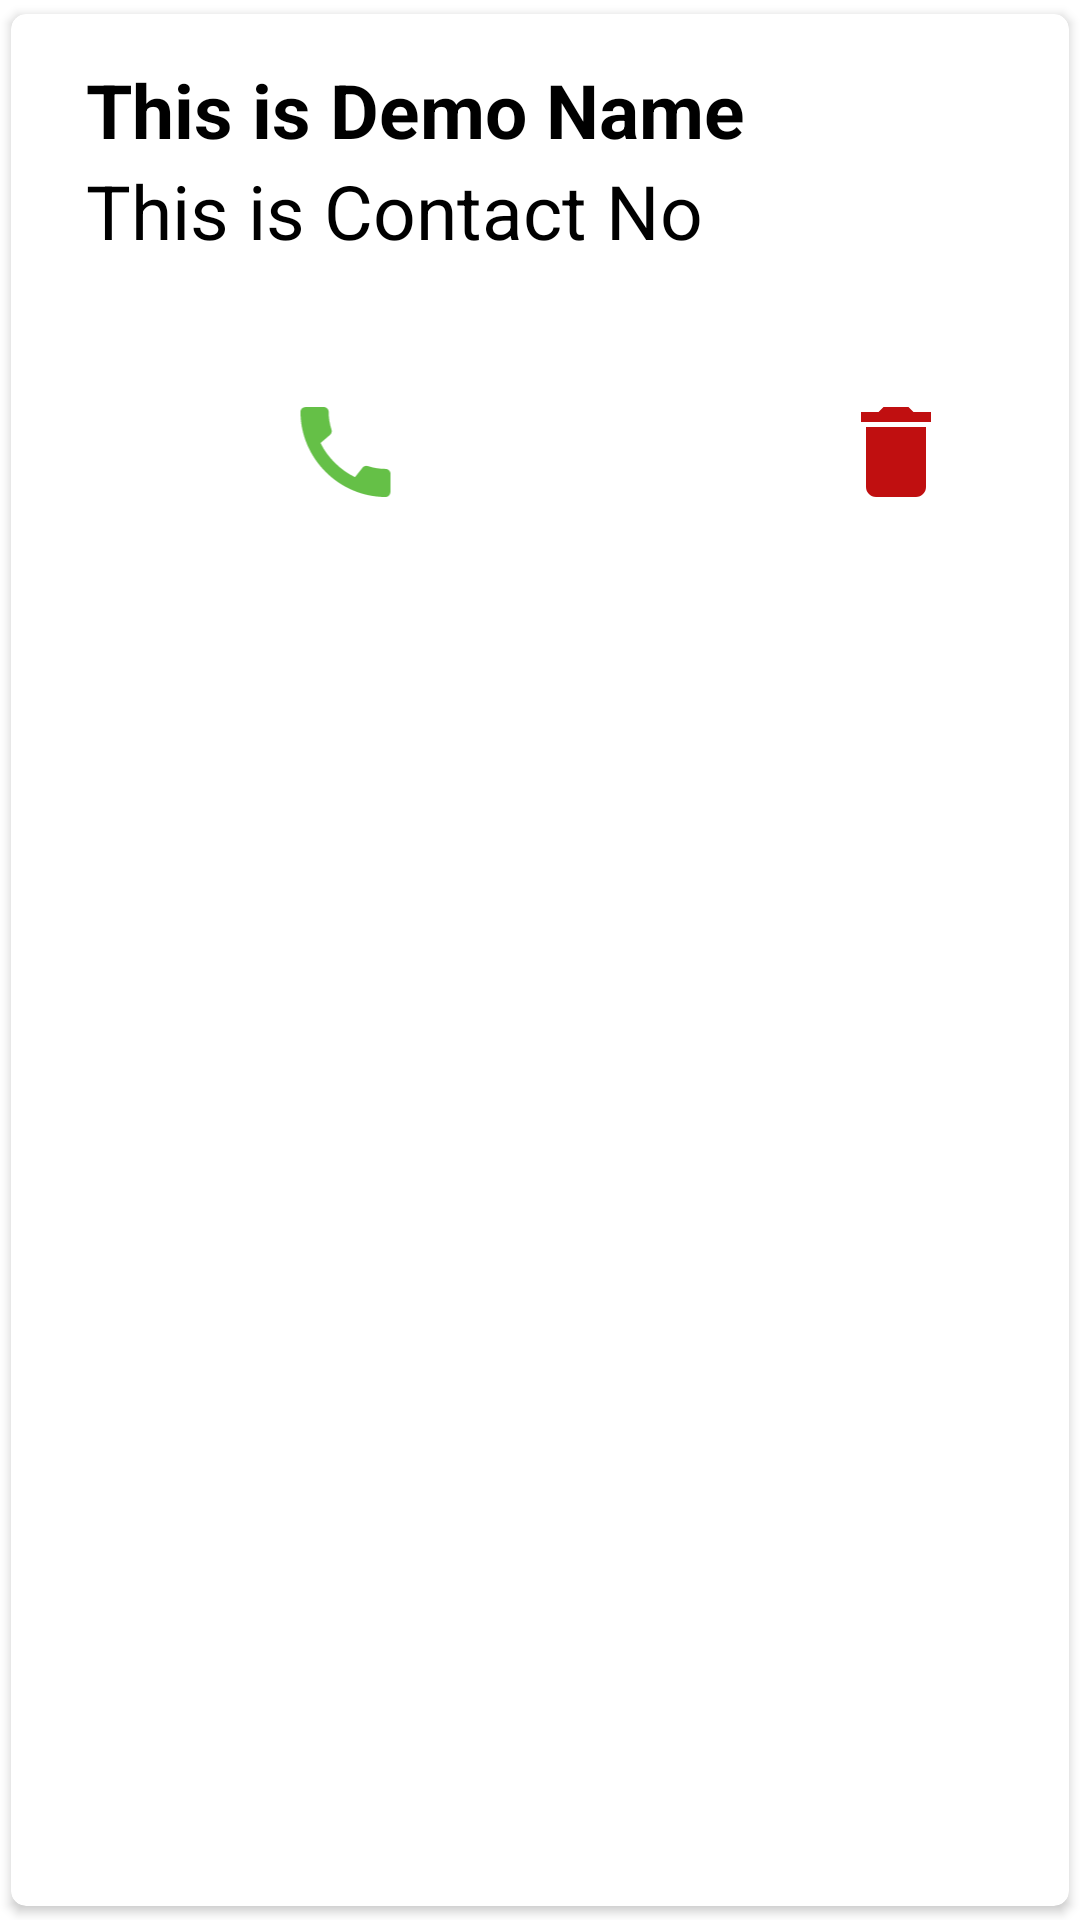

Point at icon controls on the screen. Image size 1080w x 1920h, points as (x=x, y=y).
call: (x=345, y=452)
